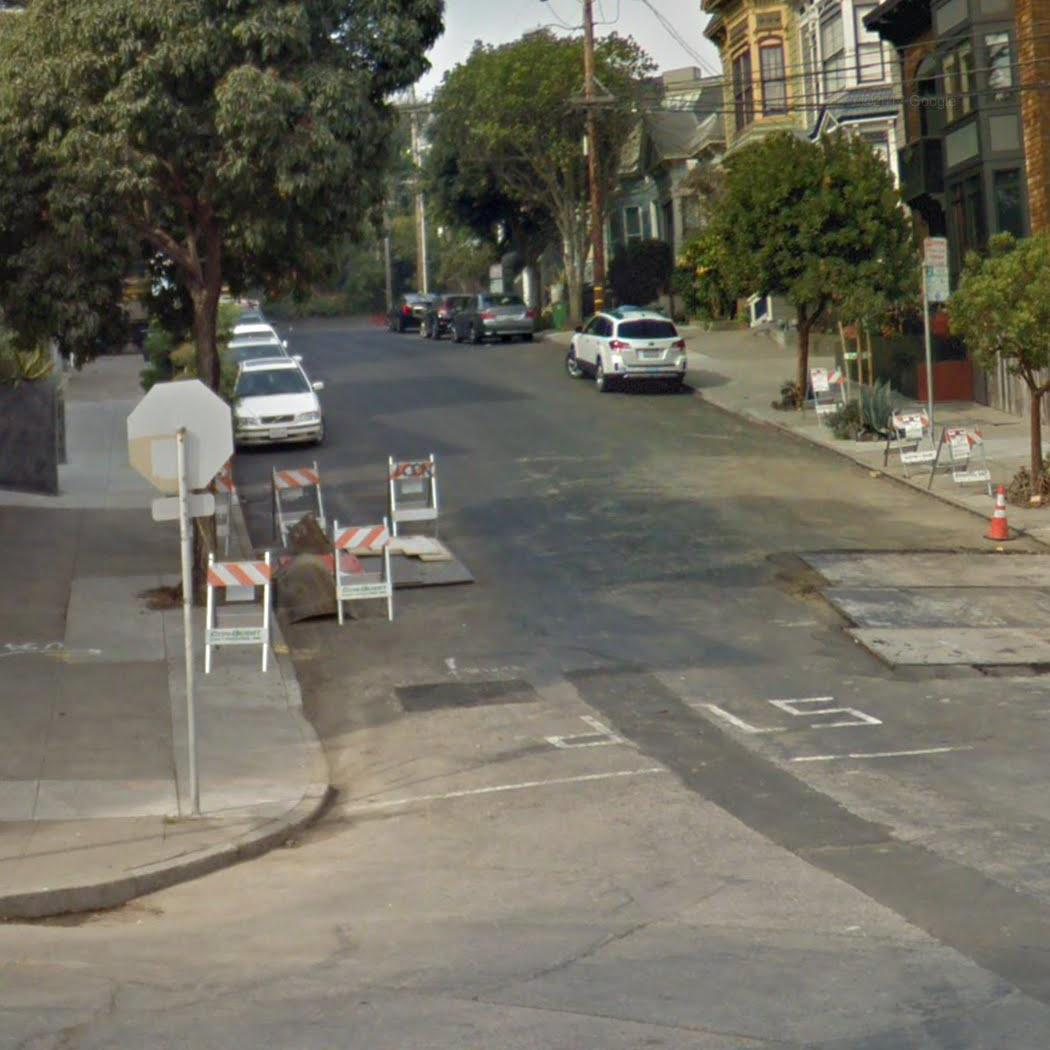2 Hour Parking: (922, 266, 954, 304)
No Parking: (919, 235, 952, 269)
